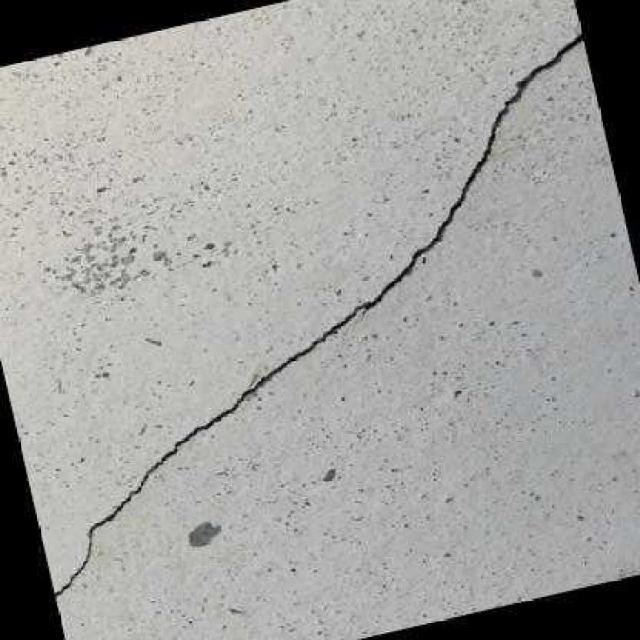D00: (54, 32, 583, 598)
